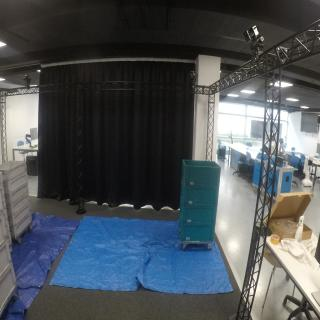BoxB4: (180, 159, 225, 191), (180, 184, 220, 209), (179, 204, 220, 226), (180, 222, 217, 242)
